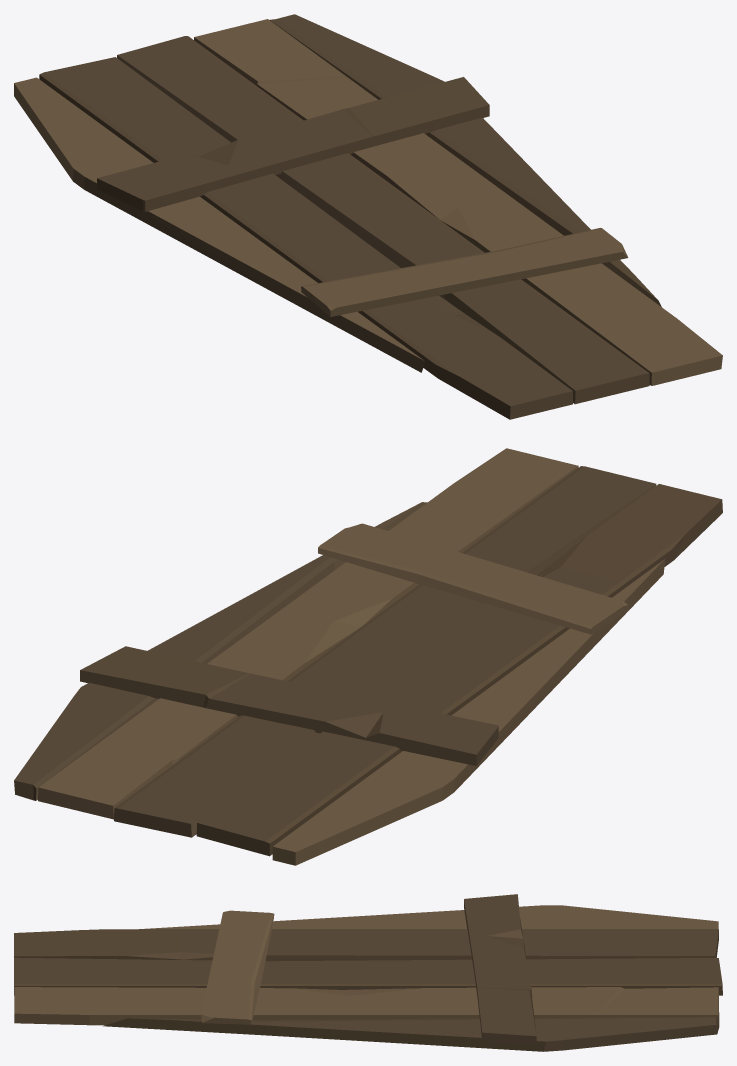
Rendered from WF_LP_HT_Props_CoffinDoor.001.fbx.
The picture shows the model from 3 angles, top to bottom: view 1: azimuth 30°, elevation 25°; view 2: azimuth 150°, elevation 25°; view 3: azimuth 270°, elevation 25°; orthographic projection. The views are drawn at different scales.
Visible parts, largest first — view 1: WF_LP_HT_Props_CoffinDoor.001; view 2: WF_LP_HT_Props_CoffinDoor.001; view 3: WF_LP_HT_Props_CoffinDoor.001.
Boxes of the visible parts, x1,y1,x2,y2 form: WF_LP_HT_Props_CoffinDoor.001: [14, 14, 722, 419]; WF_LP_HT_Props_CoffinDoor.001: [14, 448, 722, 865]; WF_LP_HT_Props_CoffinDoor.001: [14, 894, 722, 1051].
Bounding box in the file's own units: 1.05 × 0.0711 × 2.21.
